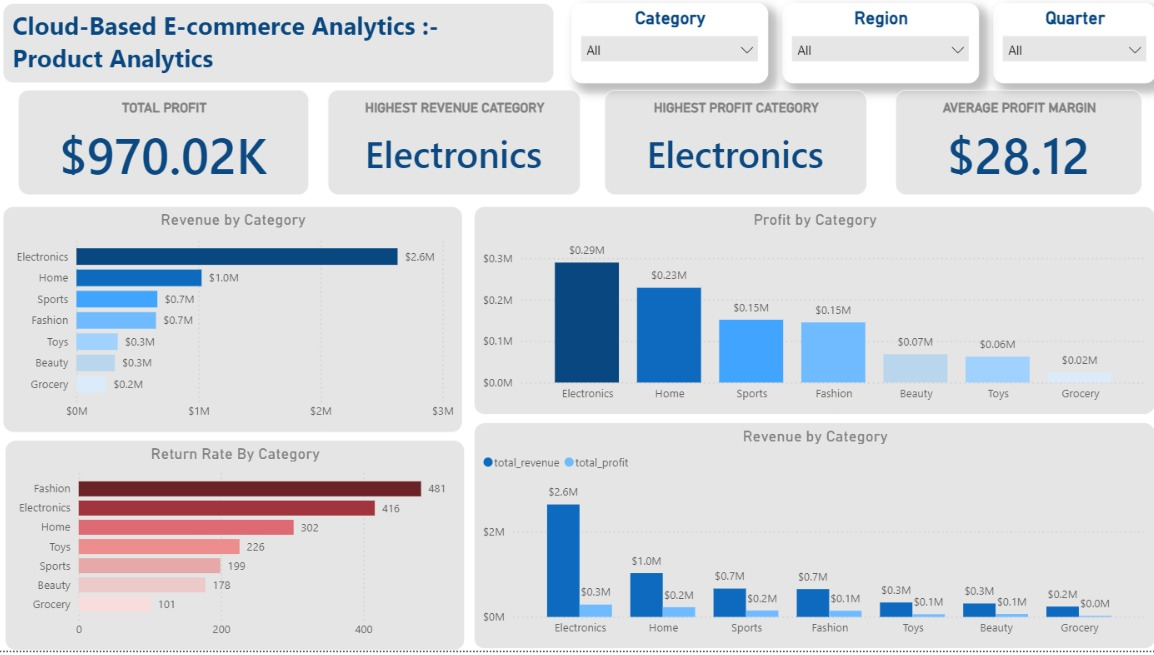

Layout of this report page (visuals, bound fields, positions):
{"tool":"powerbi","page":{"name":"Product Analytics","canvas":[1280,720],"ordinal":2},"visuals":[{"type":"cardVisual","title":"TOTAL PROFIT","fields":{"Data":["orders.total_profit"]},"box":[22.3,106.3,318.9,115.5],"z":0},{"type":"textbox","box":[6.6,10.5,603.8,87.9],"z":1000},{"type":"slicer","title":"Quarter","fields":{"Values":["orders.order_date.Variation.Date Hierarchy.Quarter"]},"box":[1090.7,10.5,178.5,87.9],"z":2000},{"type":"slicer","title":"Region","fields":{"Values":["orders.region"]},"box":[859.7,10.5,215.3,87.9],"z":3000},{"type":"slicer","title":"Category","fields":{"Values":["products.category"]},"box":[628.7,10.5,215.3,87.9],"z":4000},{"type":"cardVisual","title":"AVERAGE PROFIT MARGIN","fields":{"Data":["orders.average_profit_margin"]},"box":[984.4,106.3,270.4,115.5],"z":5000},{"type":"cardVisual","title":"HIGHEST PROFIT CATEGORY","fields":{"Data":["orders.highest_profit_category"]},"box":[665.4,106.3,287.4,115.5],"z":6000},{"type":"cardVisual","title":"HIGHEST REVENUE CATEGORY","fields":{"Data":["orders.highest_revenue_category"]},"box":[362.3,106.3,276.9,115.5],"z":7000},{"type":"clusteredBarChart","title":"Revenue by Category","fields":{"Y":["orders.total_revenue"],"Category":["products.category"]},"box":[6.6,233.6,504,248.1],"z":8000},{"type":"clusteredColumnChart","title":"Revenue by Category","fields":{"Category":["products.category"],"Y":["orders.total_revenue","orders.total_profit"]},"box":[522.4,469.9,746.8,248.1],"z":9000},{"type":"columnChart","title":"Profit by Category","fields":{"Category":["products.category"],"Y":["orders.total_profit"]},"box":[522.4,233.6,746.8,228.4],"z":10000},{"type":"barChart","title":"Return Rate By Category","fields":{"Category":["products.category"],"Y":["Sum(orders.return_flag)"]},"box":[7.9,489,504,231],"z":11000}]}

Visuals, with their boxes in screenshot pixels (x1, y1, x2, y2), scaled from the page's 1280x720 canvas onto the 1154x655 screenshot:
"TOTAL PROFIT" cardVisual: pyautogui.locateOnScreen(20, 97, 308, 202)
textbox: pyautogui.locateOnScreen(6, 10, 550, 90)
"Quarter" slicer: pyautogui.locateOnScreen(983, 10, 1144, 90)
"Region" slicer: pyautogui.locateOnScreen(775, 10, 969, 90)
"Category" slicer: pyautogui.locateOnScreen(567, 10, 761, 90)
"AVERAGE PROFIT MARGIN" cardVisual: pyautogui.locateOnScreen(887, 97, 1131, 202)
"HIGHEST PROFIT CATEGORY" cardVisual: pyautogui.locateOnScreen(600, 97, 859, 202)
"HIGHEST REVENUE CATEGORY" cardVisual: pyautogui.locateOnScreen(327, 97, 576, 202)
"Revenue by Category" clusteredBarChart: pyautogui.locateOnScreen(6, 213, 460, 438)
"Revenue by Category" clusteredColumnChart: pyautogui.locateOnScreen(471, 427, 1144, 653)
"Profit by Category" columnChart: pyautogui.locateOnScreen(471, 213, 1144, 420)
"Return Rate By Category" barChart: pyautogui.locateOnScreen(7, 445, 462, 654)
